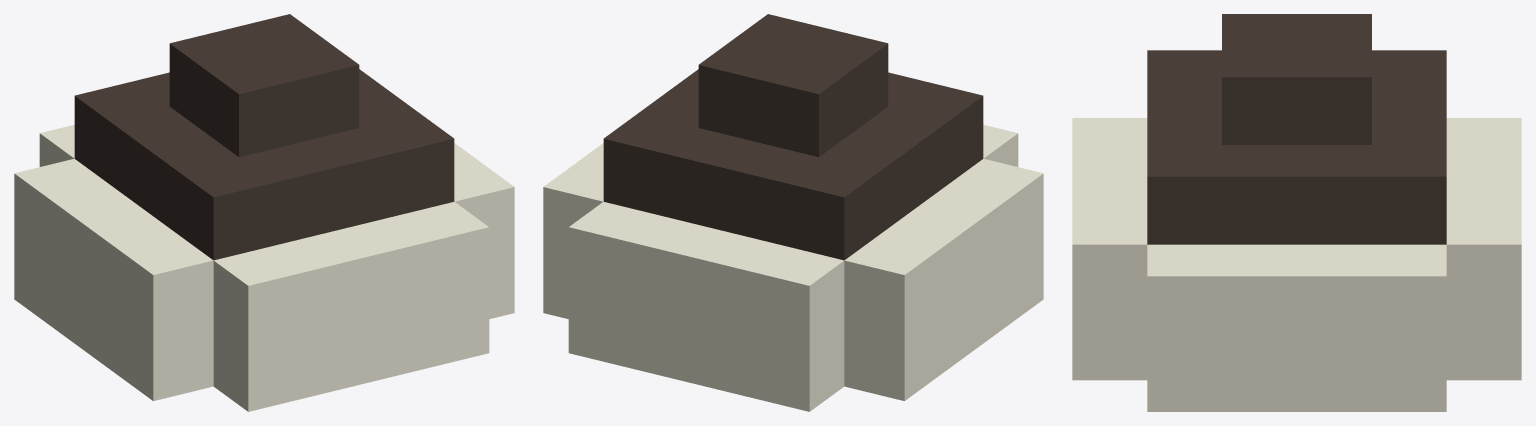
Rendered from char-77-helm_lgt_1b_ja_color.obj.
3 views of the same model, side by side, from view 1: azimuth 30°, elevation 25°; view 2: azimuth 150°, elevation 25°; view 3: azimuth 270°, elevation 25° (orthographic). The views are drawn at different scales.
Visible parts, largest first — view 1: helm_lgt_1b_ja_color; view 2: helm_lgt_1b_ja_color; view 3: helm_lgt_1b_ja_color.
Boxes of the visible parts, x1,y1,x2,y2 form: helm_lgt_1b_ja_color: [14, 14, 514, 411]; helm_lgt_1b_ja_color: [543, 14, 1043, 411]; helm_lgt_1b_ja_color: [1072, 14, 1521, 411].
Size of the model in its own units: 0.6 by 0.4 by 0.6.
1 material, 1 textured.
